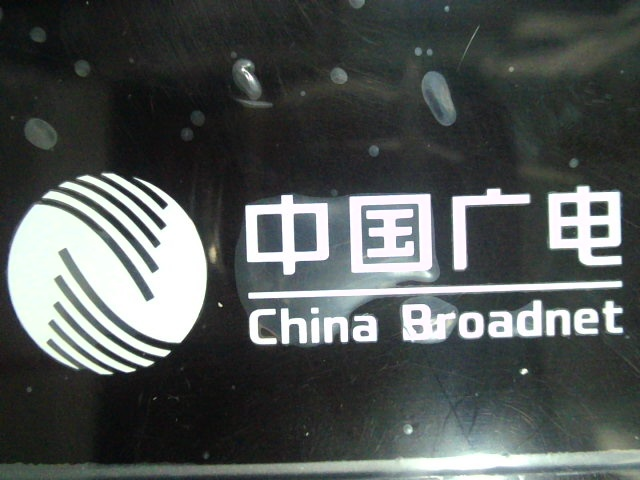AW_ChinaBroadNet: (5, 168, 629, 375)
